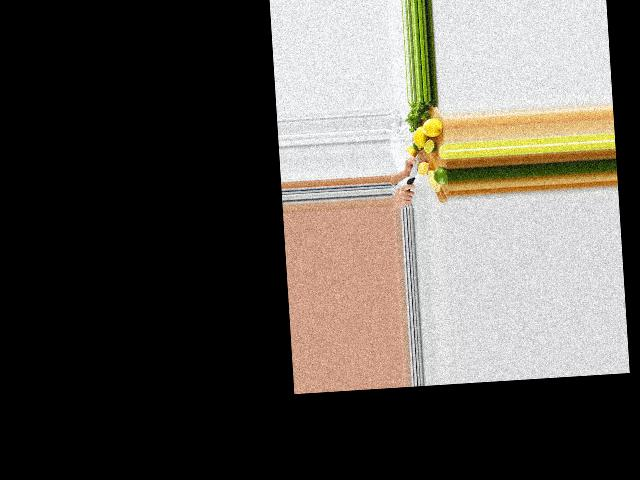lemon: (421, 114, 442, 139)
